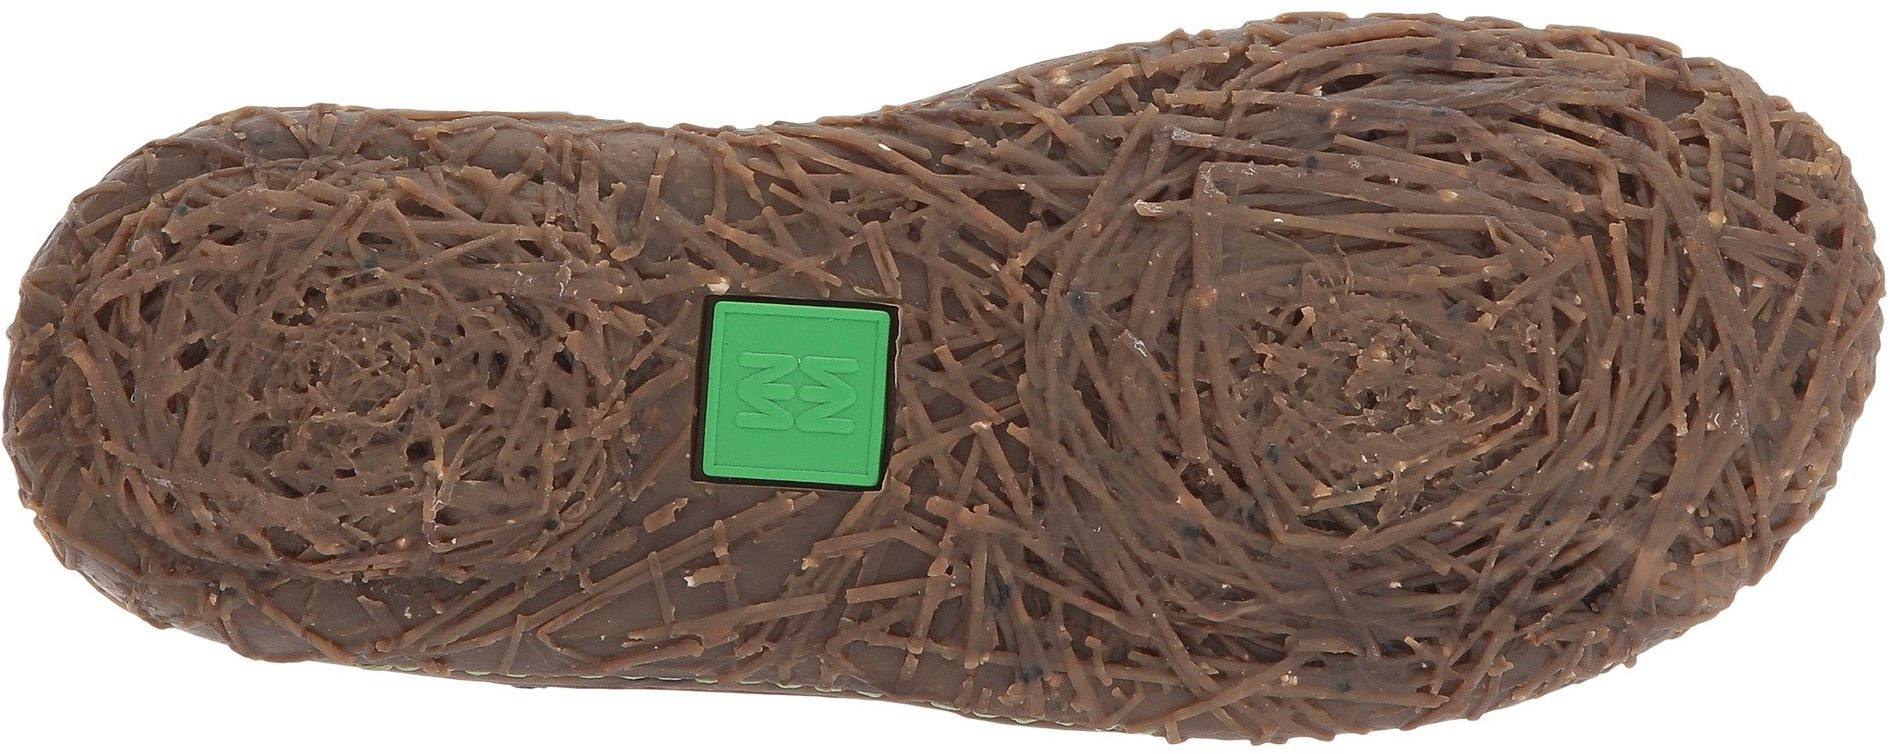other: (1180, 306, 1465, 565), (330, 405, 614, 662), (57, 222, 325, 481), (1479, 285, 1763, 524), (329, 152, 598, 397), (908, 304, 1174, 550), (1011, 78, 1276, 298), (1289, 37, 1525, 272), (1537, 48, 1753, 254), (629, 488, 802, 682), (1223, 570, 1411, 741), (803, 126, 984, 298), (1019, 562, 1188, 731), (630, 137, 787, 296), (1473, 528, 1634, 677), (845, 554, 1000, 699)
quad: (683, 310, 917, 503)
text: (738, 330, 853, 450)
